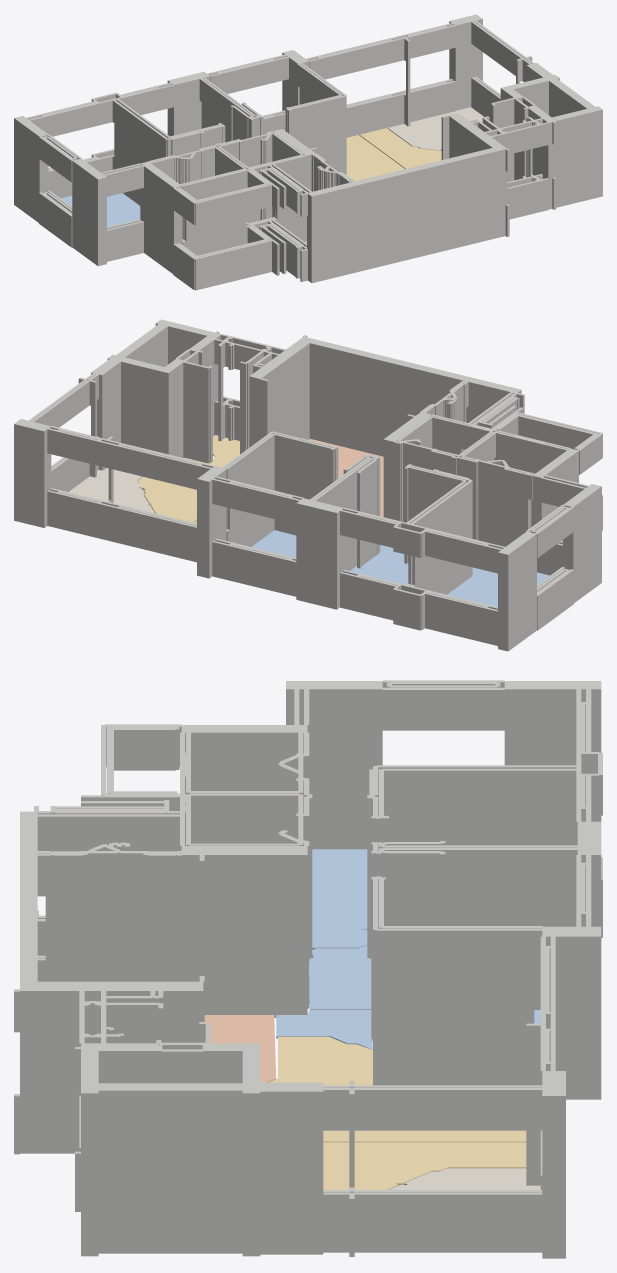
3 renders of one model, top to bottom at view 1: azimuth 30°, elevation 25°; view 2: azimuth 150°, elevation 25°; view 3: azimuth 270°, elevation 25°, orthographic. The views are drawn at different scales.
Visible parts, largest first — view 1: walls, room:living:8, room:living:9, room:other:13, room:bedroom:12; view 2: walls, room:living:9, room:other:13, room:bedroom:12, room:bedroom:11, room:kitchen:0, room:bedroom:10; view 3: walls, room:living:9, room:living:8, room:bedroom:12, room:bedroom:11, room:bedroom:10, room:kitchen:0, room:other:13.
Boxes of the visible parts, x1=… form: walls: x1=14, y1=14, x2=602, y2=290; room:living:8: x1=346, y1=135, x2=404, y2=181; room:living:9: x1=359, y1=128, x2=441, y2=168; room:other:13: x1=387, y1=107, x2=483, y2=150; room:bedroom:12: x1=61, y1=193, x2=140, y2=226; walls: x1=14, y1=319, x2=602, y2=651; room:living:9: x1=138, y1=435, x2=239, y2=522; room:other:13: x1=68, y1=468, x2=154, y2=513; room:bedroom:12: x1=447, y1=567, x2=549, y2=606; room:bedroom:11: x1=350, y1=545, x2=408, y2=584; room:kitchen:0: x1=309, y1=439, x2=383, y2=516; room:bedroom:10: x1=252, y1=530, x2=296, y2=557; walls: x1=14, y1=680, x2=602, y2=1258; room:living:9: x1=323, y1=1142, x2=526, y2=1189; room:living:8: x1=269, y1=1036, x2=526, y2=1142; room:bedroom:12: x1=312, y1=849, x2=367, y2=950; room:bedroom:11: x1=309, y1=945, x2=371, y2=1009; room:bedroom:10: x1=276, y1=1010, x2=540, y2=1049; room:kitchen:0: x1=204, y1=1015, x2=276, y2=1082; room:other:13: x1=389, y1=1168, x2=540, y2=1189.
Size of the model in its own units: 15.32 by 2.8 by 9.18.
